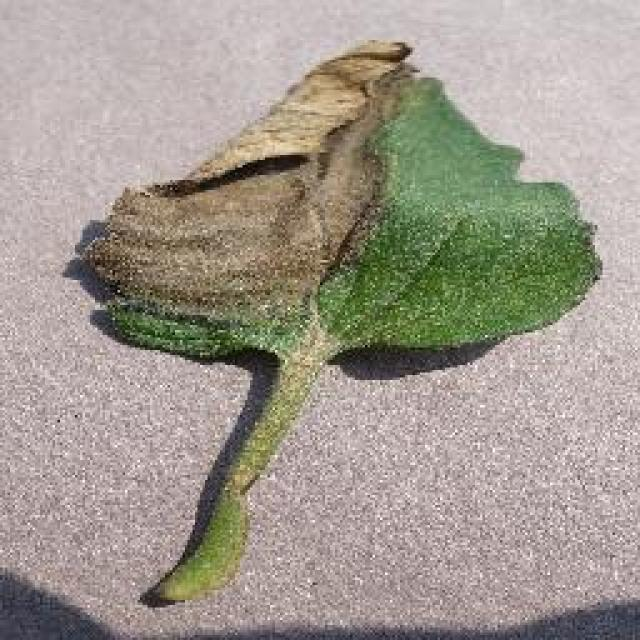Tomato late blight leaf: (73, 34, 605, 358)
